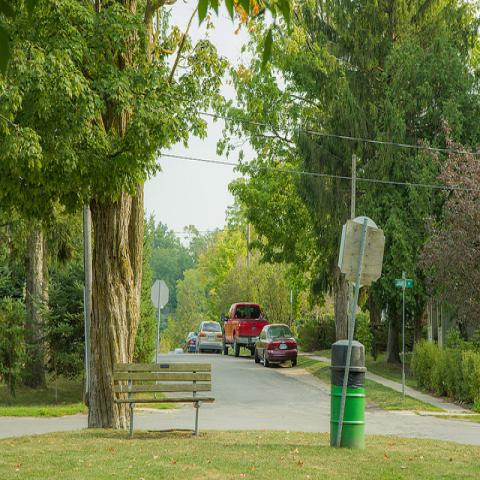car: (254, 323, 298, 367), (194, 320, 222, 354), (182, 331, 196, 354), (174, 349, 184, 354), (168, 352, 174, 354)
truck: (222, 301, 269, 358)
